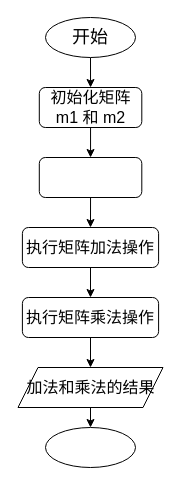
The diagram is 180 pixels wide and 485 high, and some of its shapes have lost their labels. Each missing label, with the centre of its shape:
填充矩阵 m1 和 m2 的元素: pixel 90 177
结束: pixel 90 447
